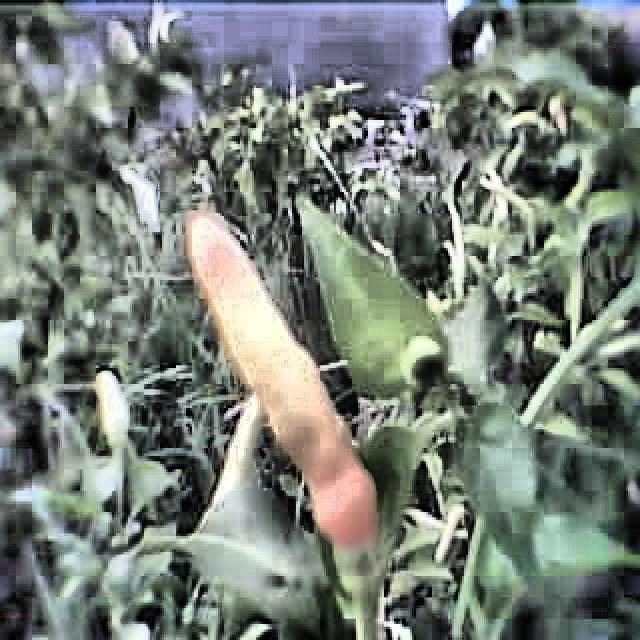Cabai: (188, 212, 383, 534), (75, 362, 137, 445)
